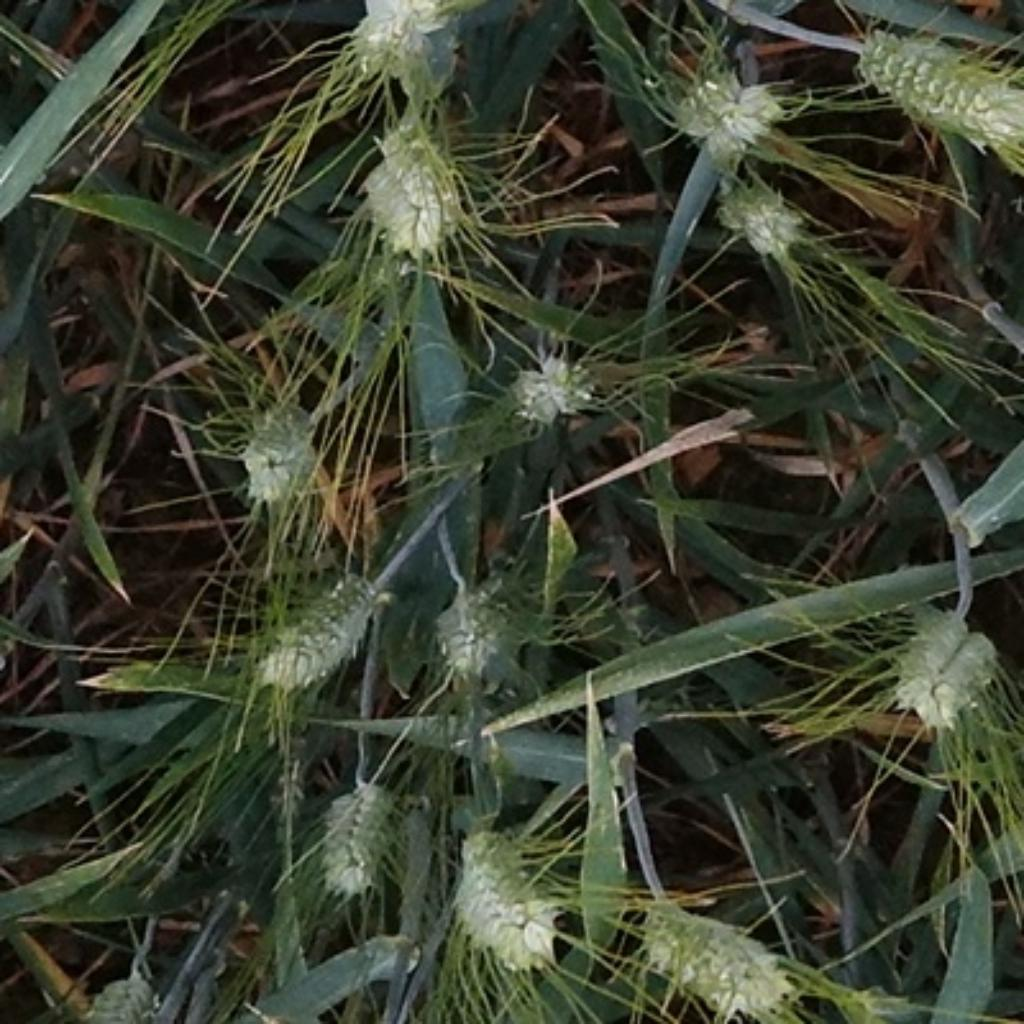0-0: (629, 882, 808, 1020), (440, 816, 576, 975), (243, 552, 389, 691), (344, 118, 470, 274), (863, 26, 1023, 146), (880, 591, 1011, 732), (221, 402, 343, 517), (309, 765, 408, 905), (662, 58, 785, 166), (496, 335, 608, 438), (337, 0, 465, 87), (716, 183, 823, 270), (423, 583, 516, 683), (70, 958, 167, 1022)
